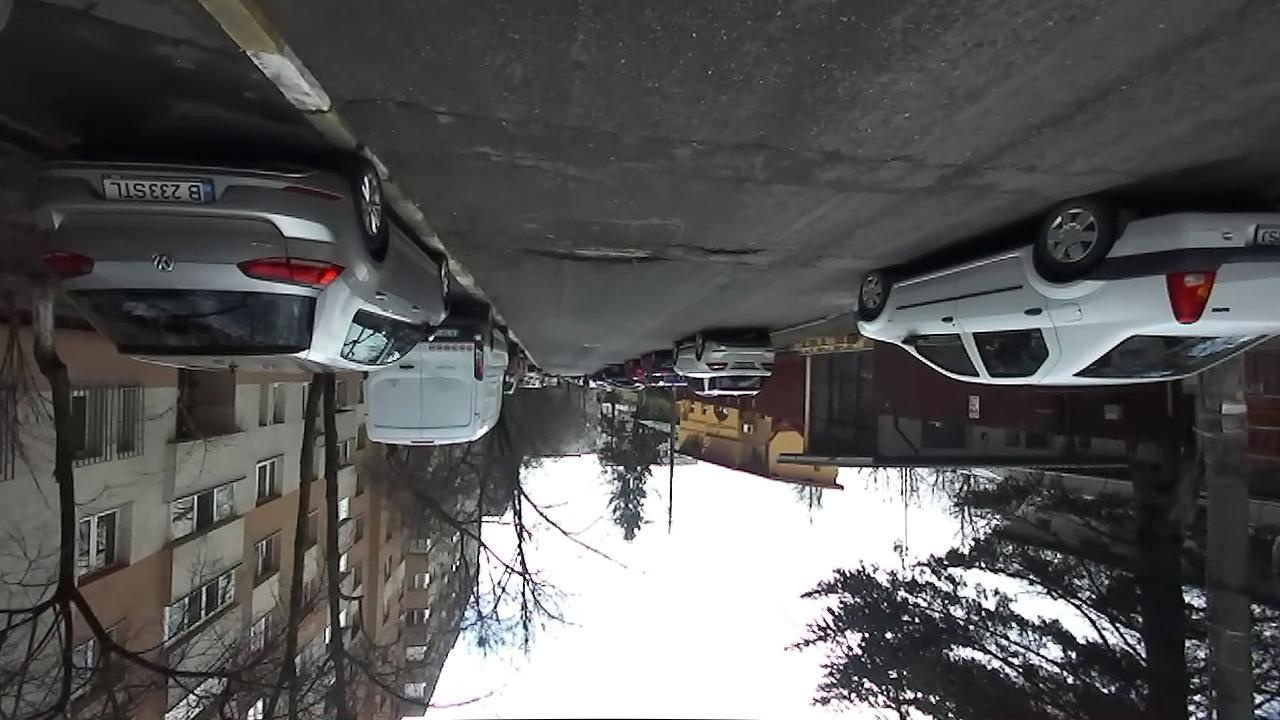pothole: (518, 240, 671, 269), (346, 86, 466, 120), (686, 240, 767, 259)
